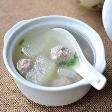dongguawanzi: (10, 24, 99, 88)
